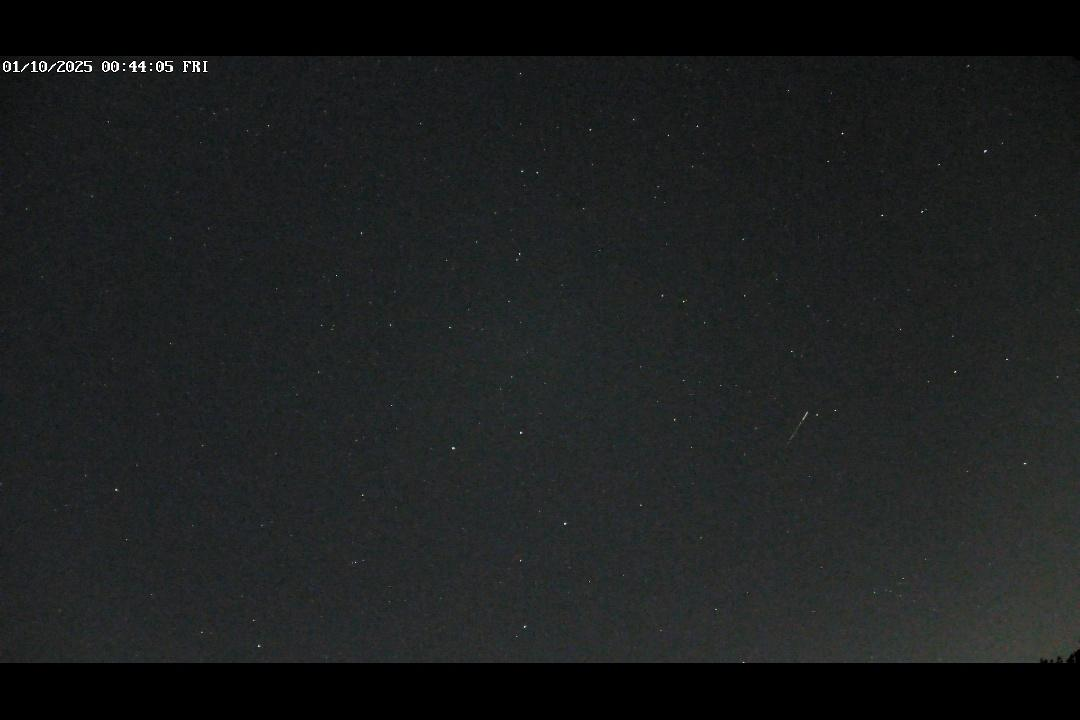meteorite: (778, 408, 814, 450)
